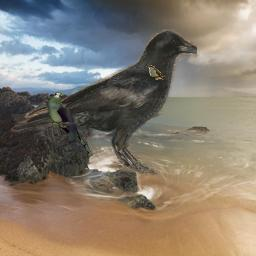Crow: (11, 29, 197, 175)
Cuckoo: (46, 92, 96, 157), (146, 64, 166, 80)
